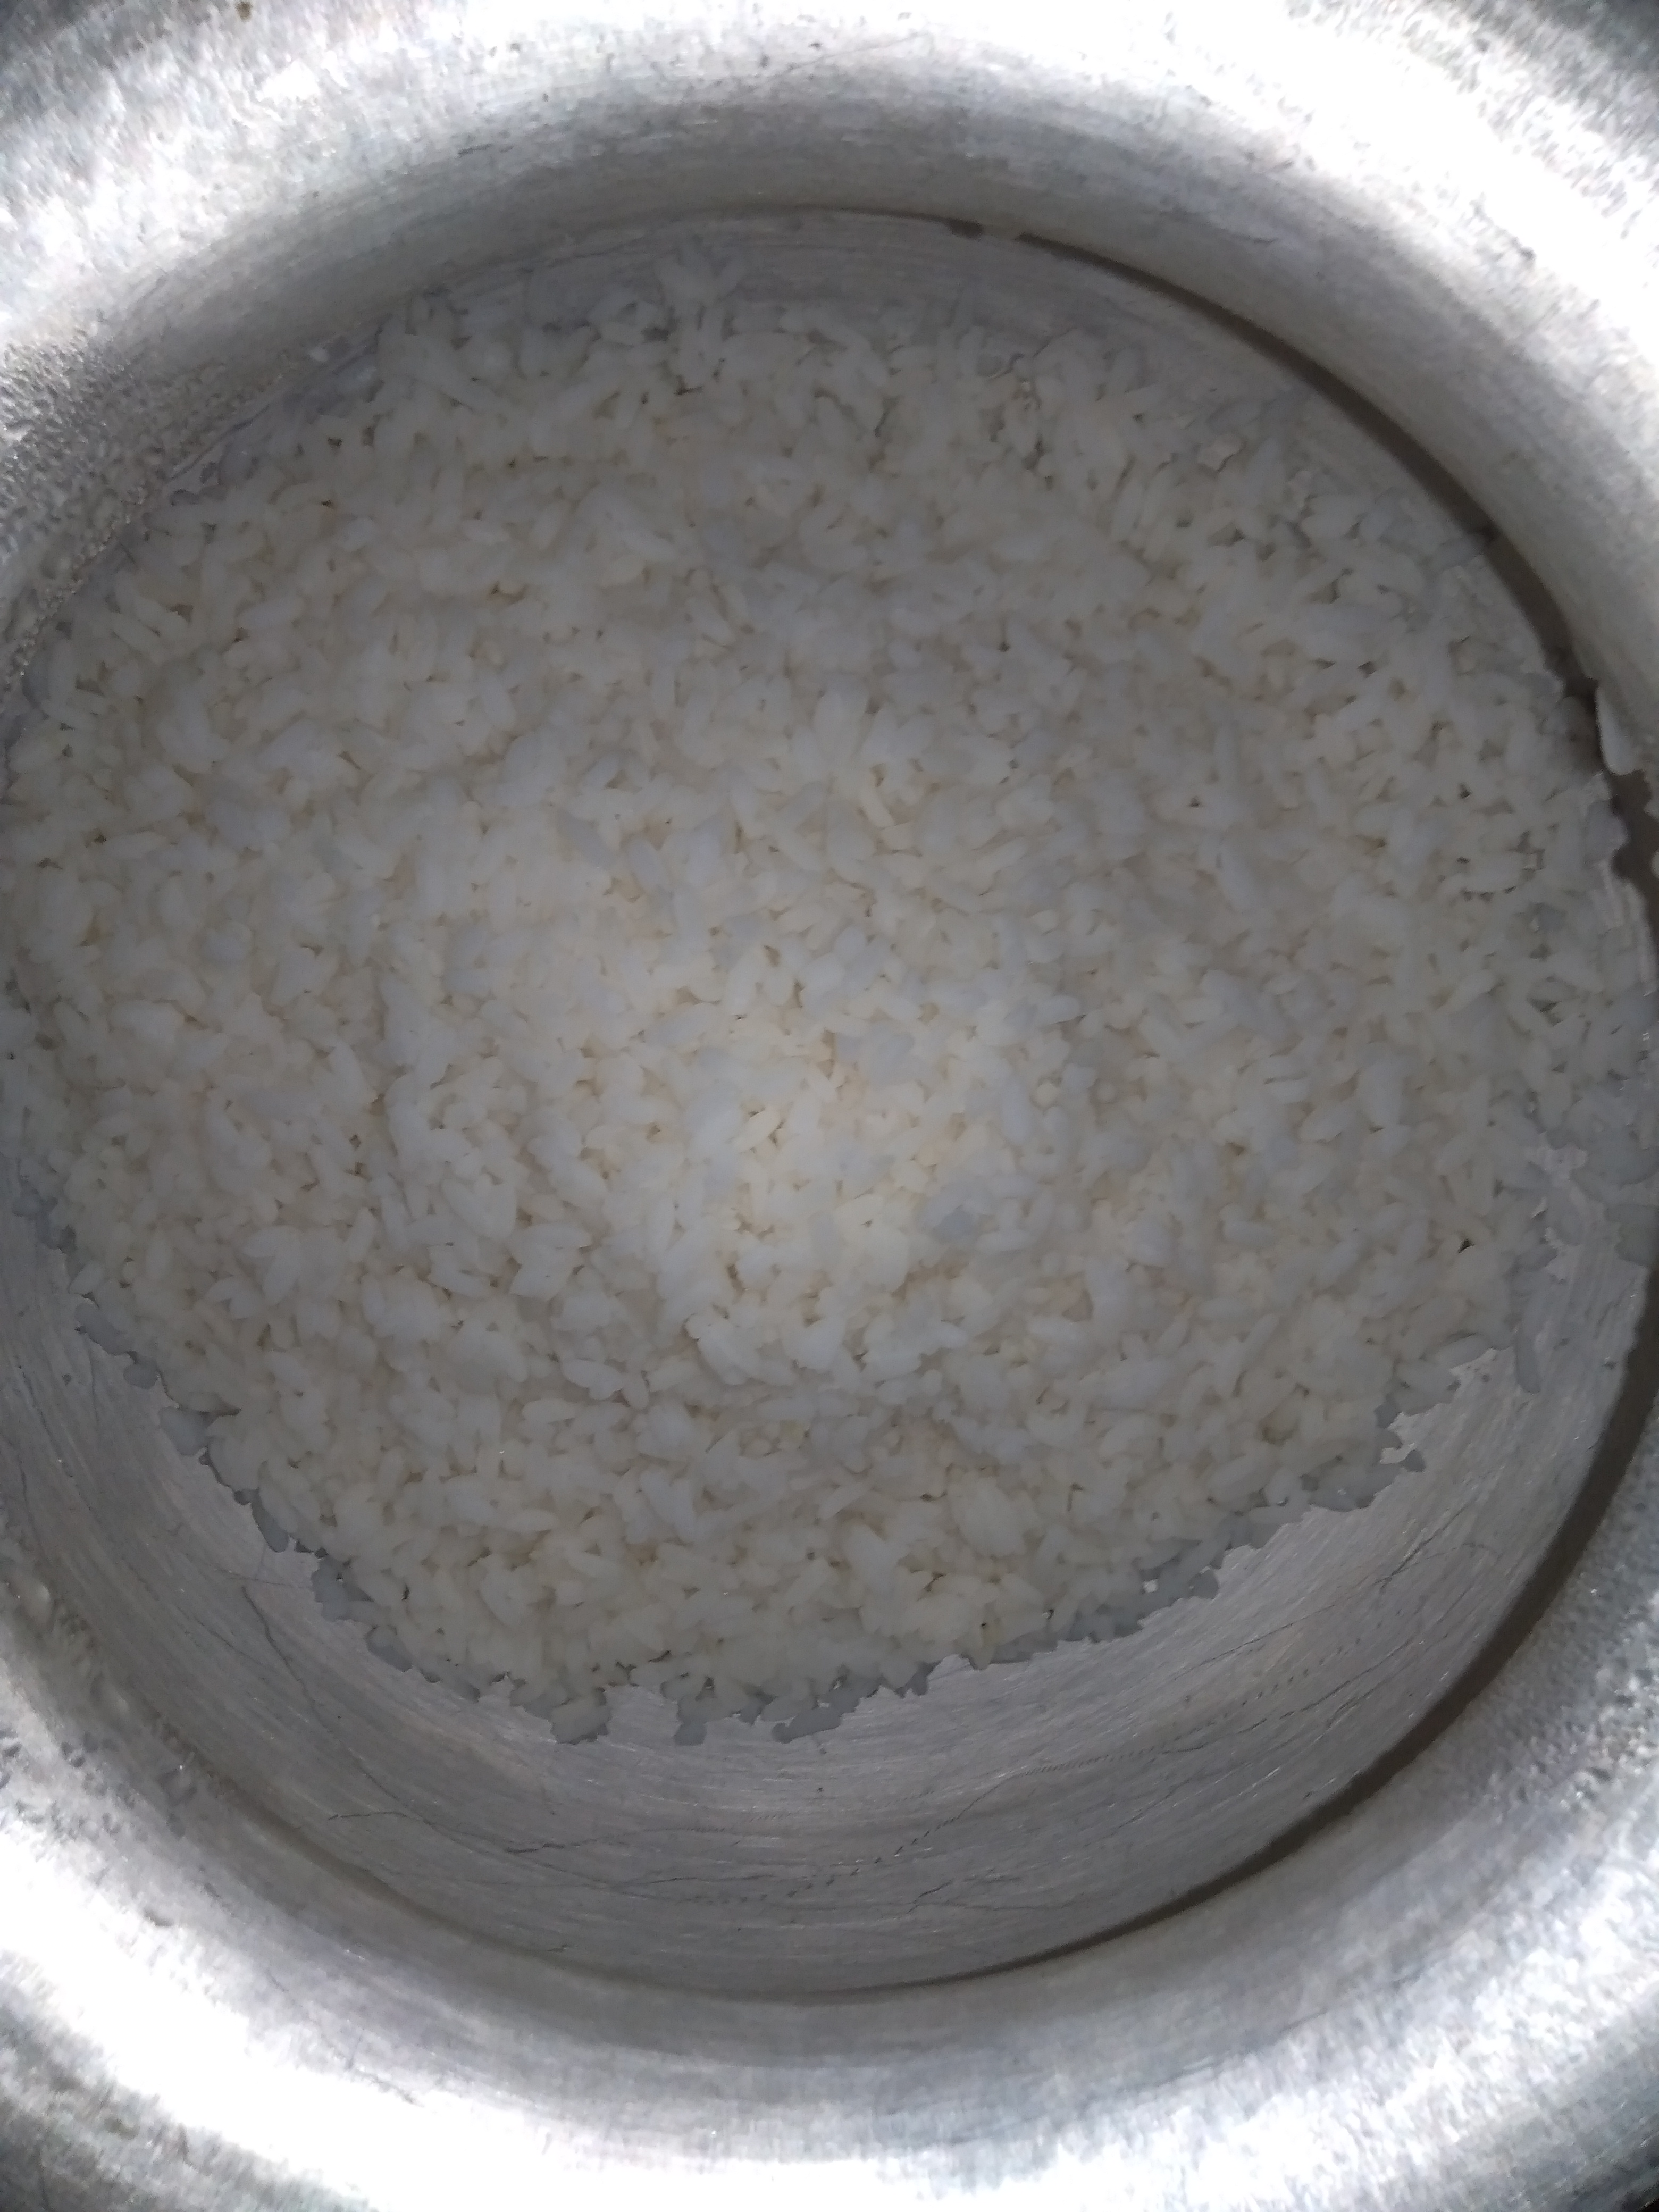food: (0, 237, 1659, 1764)
